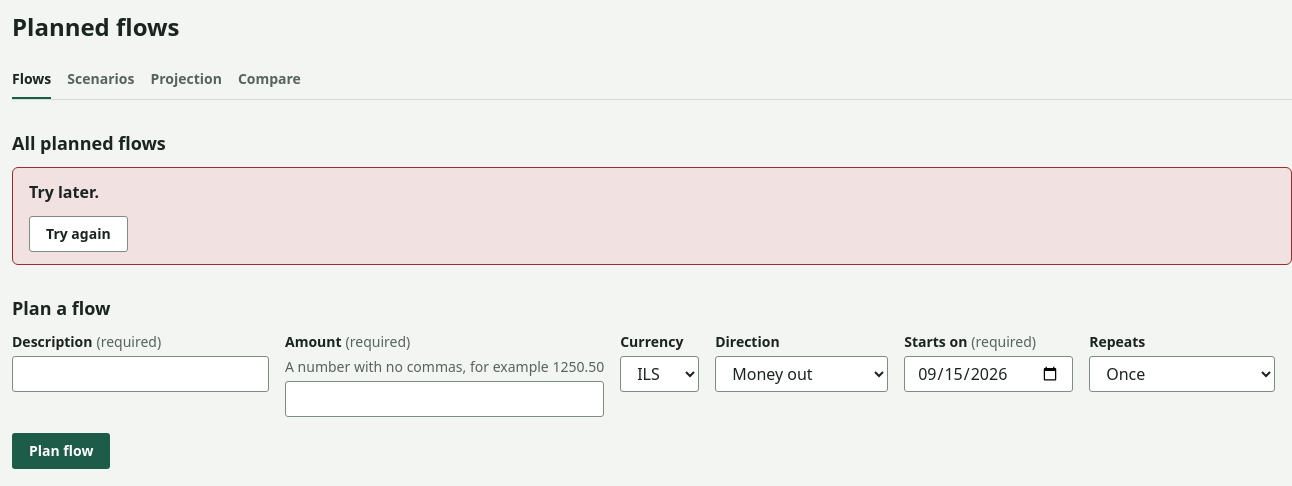
Scenario: PlannedFlowsPage › Given_the_list_fails_When_the_page_renders_Then_an_error_state_offers_a_retry_that_refetches
Expected: the text "Try later." is shown, [29, 180, 99, 202]
Click the button "Try again".
click(78, 234)  # box [29, 216, 128, 252]
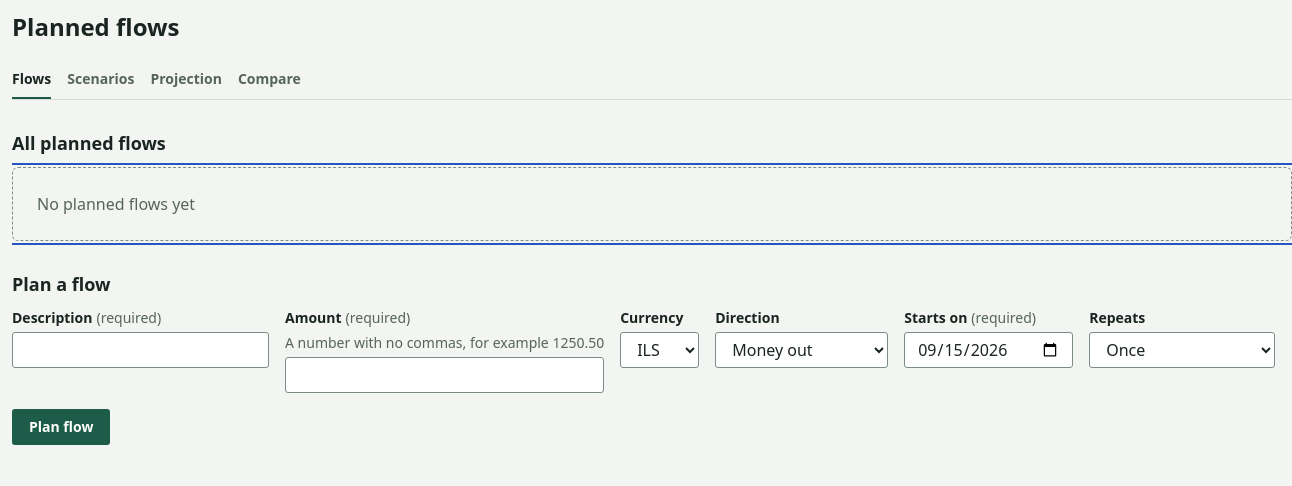
Expected: the text "No planned flows yet" is shown, [37, 192, 195, 216]
